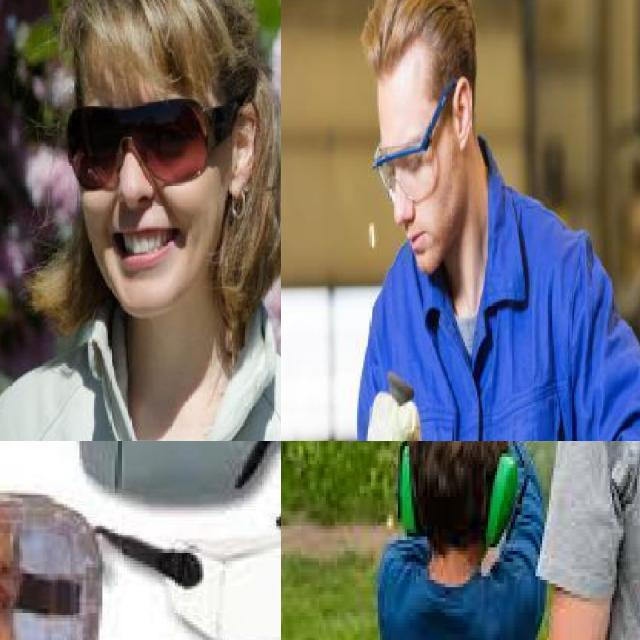Ear-protection: (483, 447, 518, 548), (391, 441, 413, 540)
No_Ear-Protection: (220, 104, 269, 200)
face_nomask: (68, 103, 222, 292), (374, 138, 443, 263)
glasses: (55, 93, 226, 199), (0, 497, 102, 640), (374, 128, 450, 211)
hand_glove: (360, 379, 438, 441)
head_nohelmet: (64, 0, 253, 67), (360, 0, 463, 91)
person: (350, 0, 640, 441), (0, 0, 281, 441), (562, 441, 640, 640)
